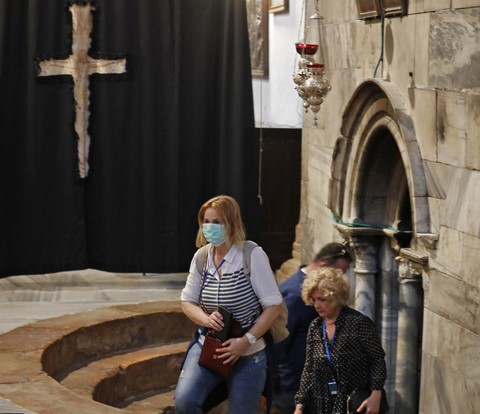face_no_mask: (305, 269, 346, 318)
face_with_mask: (201, 195, 237, 247)
